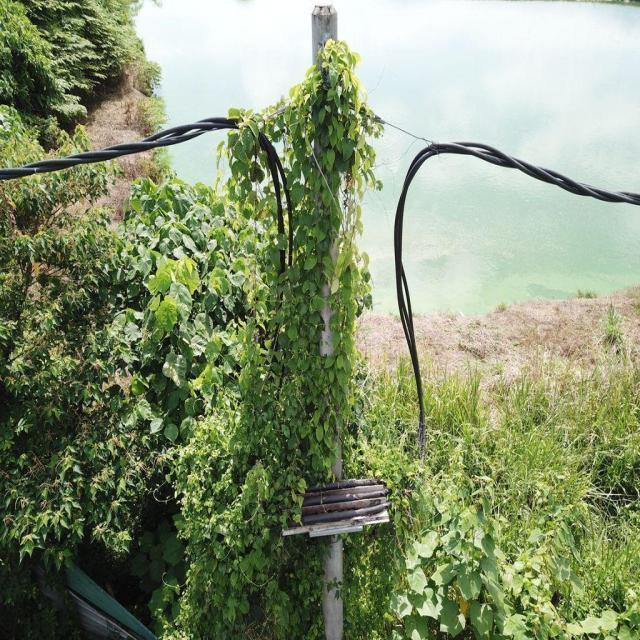critical vegetation: (194, 24, 446, 584)
